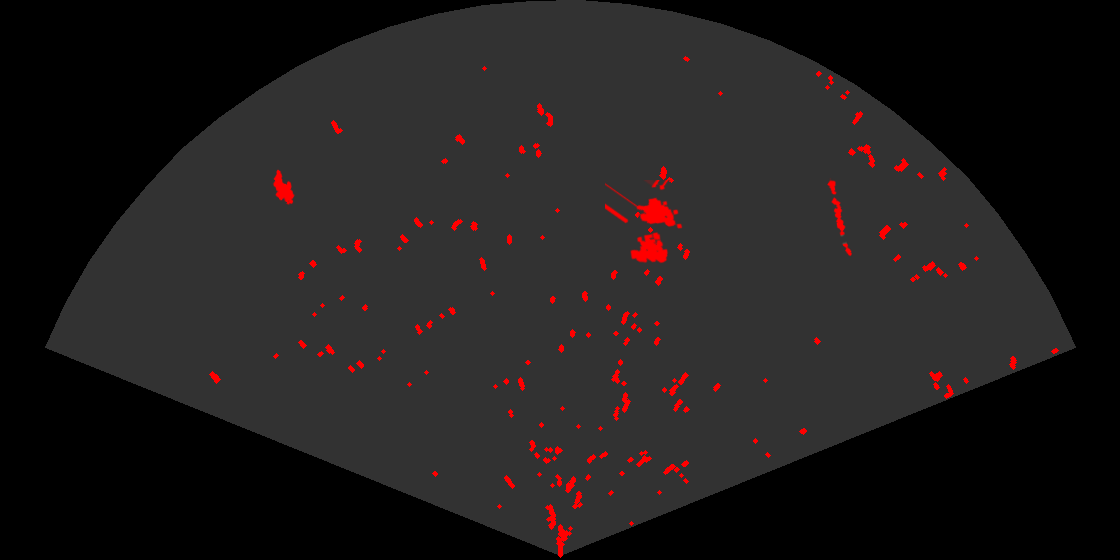AUV: (271, 168, 296, 207)
cage: (605, 180, 684, 265)
chain: (826, 178, 853, 258)
